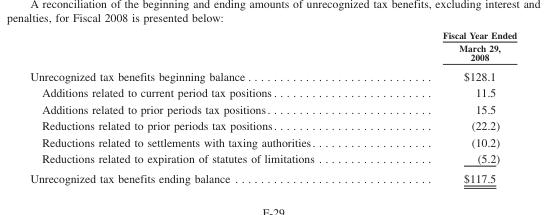table: (29, 29, 516, 184)
table column: (29, 29, 378, 184), (378, 29, 516, 184)
table column header: (29, 29, 516, 65)
table row: (29, 29, 516, 65), (29, 65, 516, 84), (29, 149, 516, 167), (29, 100, 516, 117), (29, 167, 516, 184), (29, 84, 516, 100), (29, 117, 516, 133), (29, 133, 516, 149)
